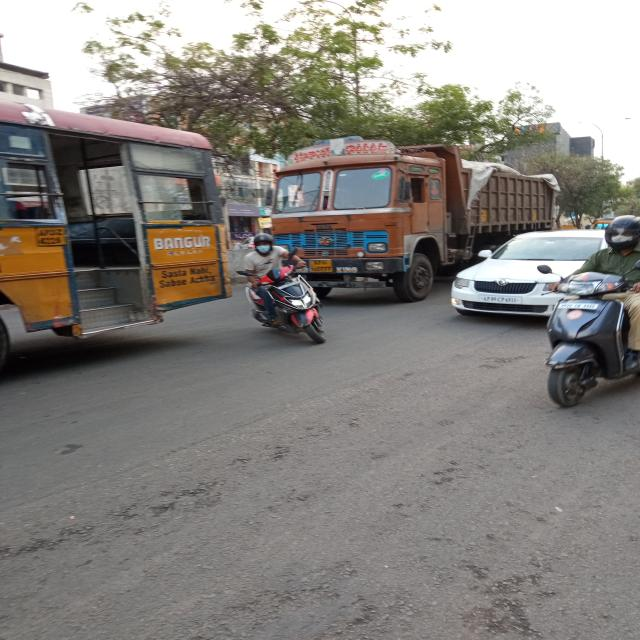Bike: (527, 197, 640, 427), (247, 231, 332, 342)
Bus: (0, 84, 239, 354)
Car: (432, 204, 624, 334)
Truck: (279, 147, 553, 286)
